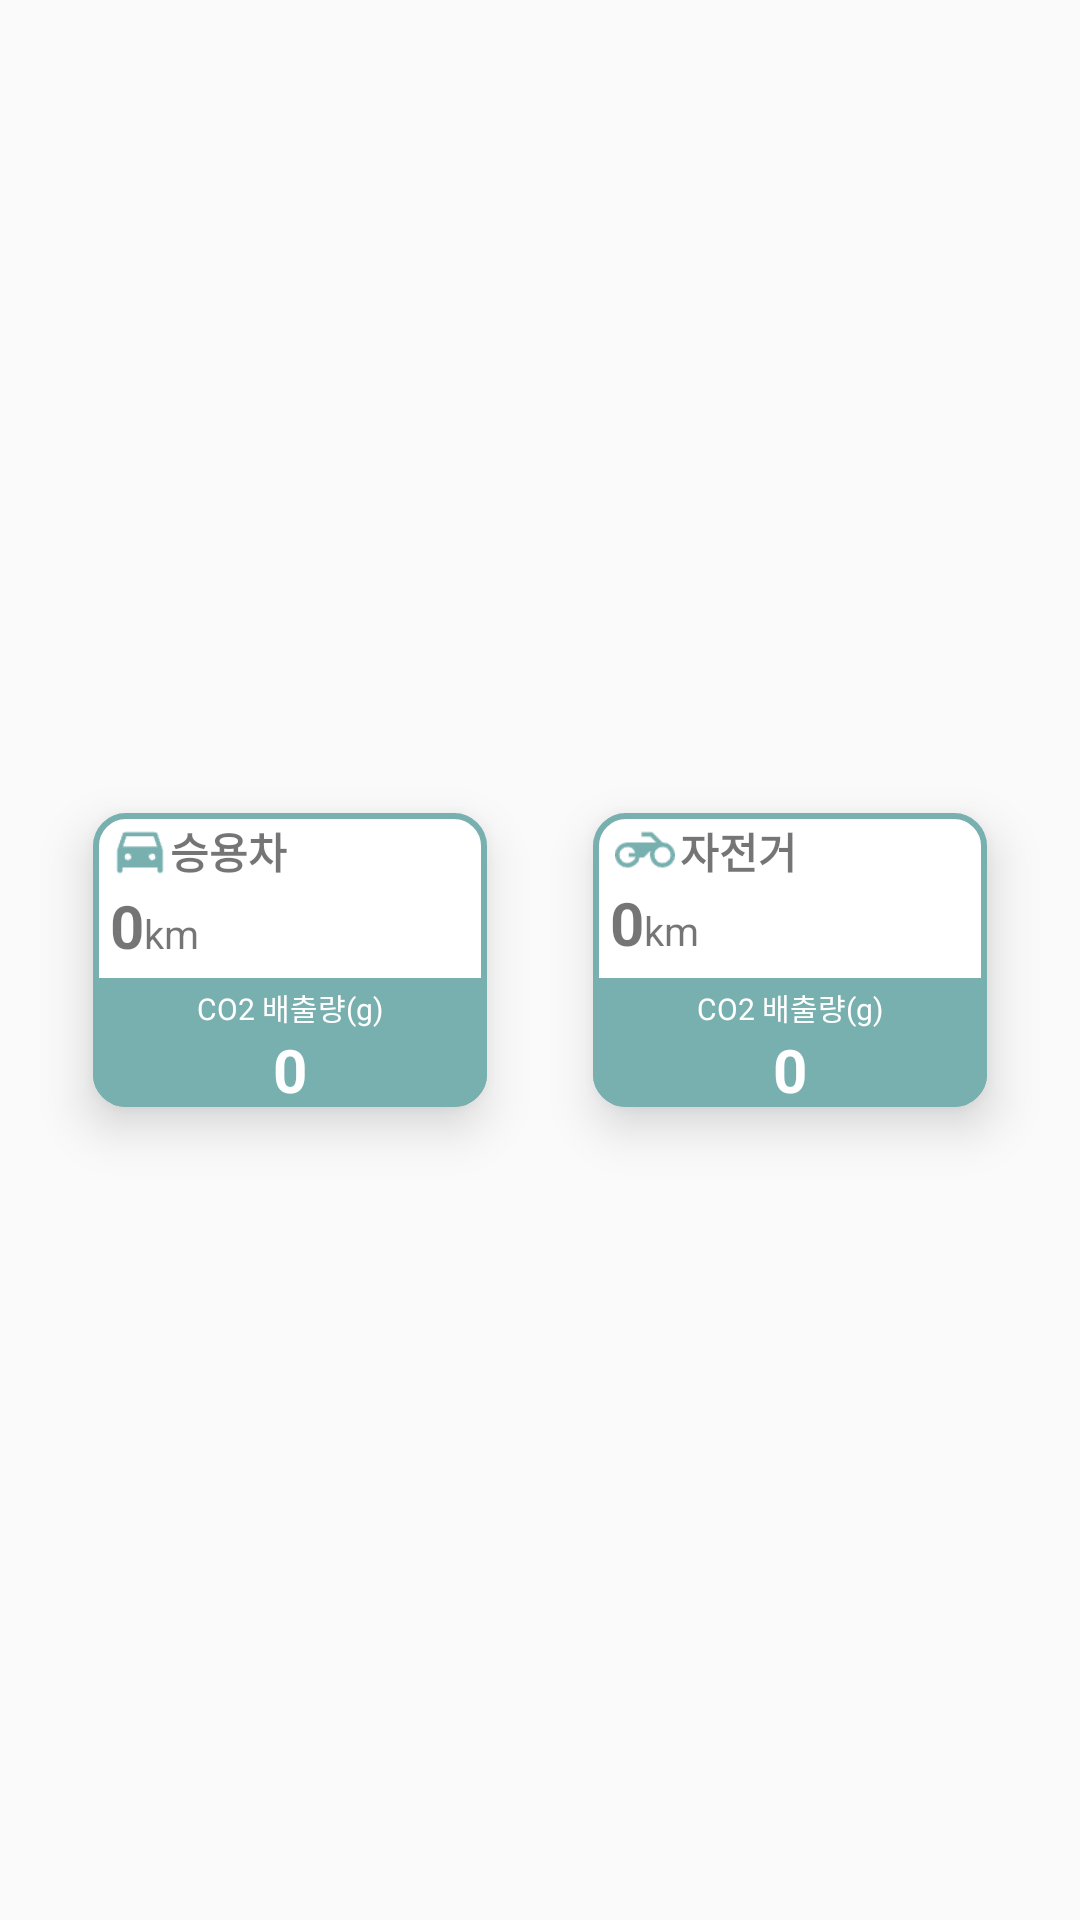

Icons on this 1080*1920 Android screen, each with the point to tap as point (x, y):
car: point (140, 853)
motorcycle: point (645, 850)
